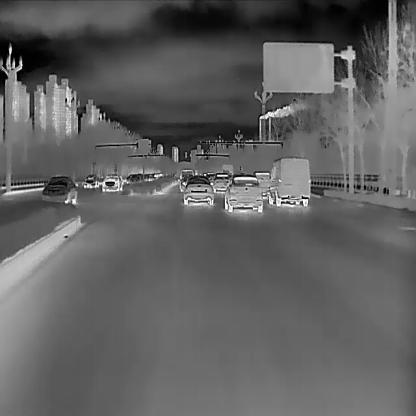car: (268, 155, 310, 206), (224, 174, 262, 214), (43, 174, 78, 206), (183, 178, 213, 207), (253, 169, 272, 197), (100, 172, 121, 191), (178, 173, 194, 192), (214, 172, 229, 190), (83, 172, 98, 188), (180, 167, 194, 182)
